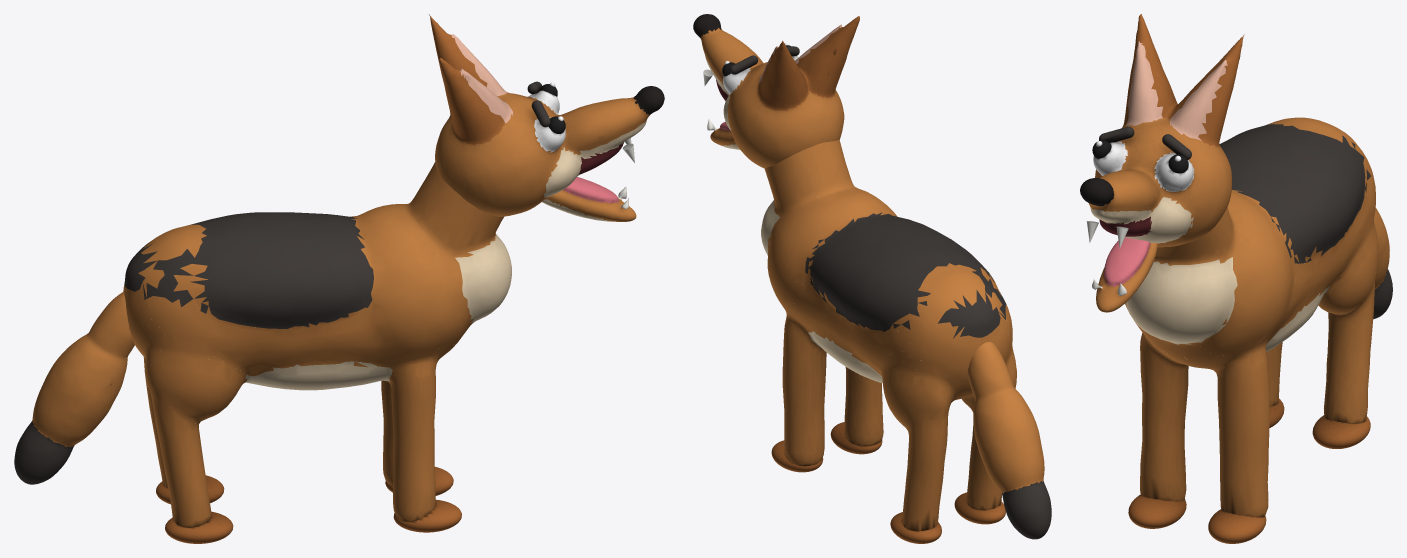
The model's file is vem-ar-ansvarig.glb.
3 renders of one model, left to right at view 1: azimuth 30°, elevation 25°; view 2: azimuth 150°, elevation 25°; view 3: azimuth 270°, elevation 25°, orthographic. The views are drawn at different scales.
Parts seen in each view (by area): view 1: chacal__r0, cabeca__r0, rabo__r0, mandibula__r0, chacal__r1, chacal__r4; view 2: chacal__r0, cabeca__r0, rabo__r0, chacal__r1, chacal__r3, chacal__r4, chacal__r2, mandibula__r0; view 3: chacal__r0, cabeca__r0, mandibula__r0, chacal__r4, chacal__r2, chacal__r3, rabo__r0, cabeca__r1.
Part boxes in pixels (bbox=[...]): chacal__r0: bbox=[123, 162, 511, 527]; cabeca__r0: bbox=[429, 14, 664, 216]; rabo__r0: bbox=[14, 292, 134, 484]; mandibula__r0: bbox=[542, 177, 636, 221]; chacal__r1: bbox=[165, 511, 233, 543]; chacal__r4: bbox=[393, 499, 461, 532]; chacal__r0: bbox=[761, 140, 1016, 531]; cabeca__r0: bbox=[693, 14, 859, 168]; rabo__r0: bbox=[967, 342, 1051, 539]; chacal__r1: bbox=[954, 492, 1005, 524]; chacal__r3: bbox=[890, 512, 941, 543]; chacal__r4: bbox=[830, 422, 882, 454]; chacal__r2: bbox=[771, 440, 823, 472]; mandibula__r0: bbox=[707, 119, 739, 149]; chacal__r0: bbox=[1125, 117, 1378, 517]; cabeca__r0: bbox=[1080, 14, 1244, 247]; mandibula__r0: bbox=[1092, 237, 1158, 312]; chacal__r4: bbox=[1128, 494, 1186, 528]; chacal__r2: bbox=[1208, 509, 1266, 543]; chacal__r3: bbox=[1312, 415, 1370, 448]; rabo__r0: bbox=[1373, 207, 1392, 318]; cabeca__r1: bbox=[1099, 126, 1134, 142].
Bounding box in the file's own units: 2.3 × 2.01 × 1.12.
